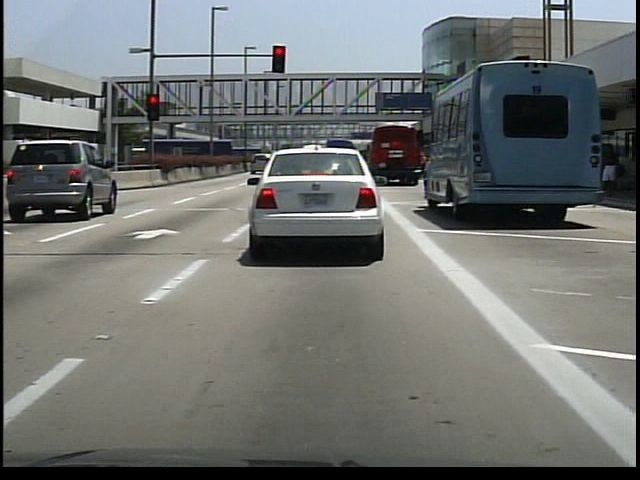person: (600, 140, 620, 194)
